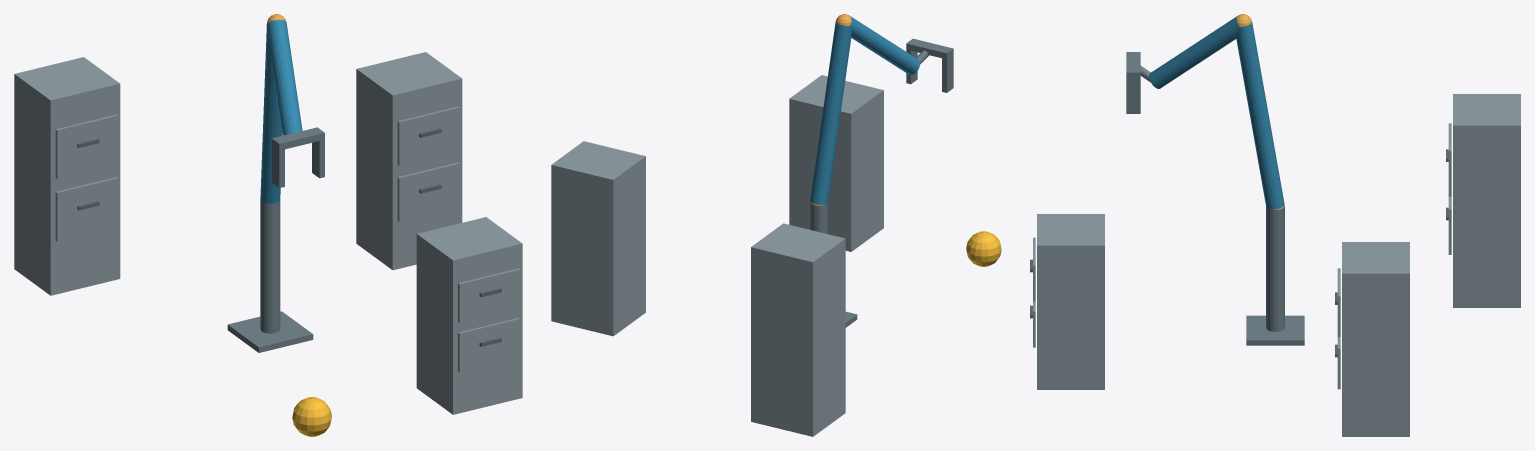
3 renders of one model, left to right at view 1: azimuth 30°, elevation 25°; view 2: azimuth 150°, elevation 25°; view 3: azimuth 270°, elevation 25°, orthographic. The views are drawn at different scales.
Visible parts, largest first — view 1: cabinet_3 body, cabinet_2 body, cabinet_1 body, cabinet_3 drawer front, cabinet_3 drawer front.001, cabinet_2 drawer front, cabinet_2 drawer front.001, fixed post, cabinet_1 drawer front, cabinet_1 drawer front.001, moving link 2, moving link 1 (+4 smaller); view 2: cabinet_3 body, cabinet_2 body, cabinet_1 body, moving link 1, moving link 2, ball ball_1, gripper bridge, fixed post; view 3: cabinet_3 body, cabinet_2 body, cabinet_1 body, moving link 1, fixed post, moving link 2, pedestal, gripper finger 1.
Boxes of the visible parts, x1=… form: cabinet_3 body: x1=14, y1=57, x2=120, y2=295; cabinet_2 body: x1=356, y1=52, x2=462, y2=270; cabinet_1 body: x1=416, y1=217, x2=522, y2=414; cabinet_3 drawer front: x1=55, y1=177, x2=118, y2=241; cabinet_3 drawer front.001: x1=55, y1=114, x2=118, y2=179; cabinet_2 drawer front: x1=397, y1=162, x2=460, y2=221; cabinet_2 drawer front.001: x1=397, y1=106, x2=460, y2=165; fixed post: x1=260, y1=200, x2=280, y2=333; cabinet_1 drawer front: x1=458, y1=318, x2=520, y2=372; cabinet_1 drawer front.001: x1=458, y1=268, x2=520, y2=322; moving link 2: x1=267, y1=19, x2=302, y2=135; moving link 1: x1=260, y1=24, x2=282, y2=203; cabinet_3 body: x1=751, y1=223, x2=845, y2=436; cabinet_2 body: x1=551, y1=141, x2=645, y2=336; cabinet_1 body: x1=789, y1=75, x2=883, y2=251; moving link 1: x1=810, y1=22, x2=851, y2=204; moving link 2: x1=849, y1=15, x2=919, y2=74; ball ball_1: x1=966, y1=231, x2=1001, y2=266; gripper bridge: x1=906, y1=38, x2=953, y2=59; fixed post: x1=810, y1=203, x2=827, y2=233; cabinet_3 body: x1=1453, y1=94, x2=1520, y2=307; cabinet_2 body: x1=1342, y1=242, x2=1409, y2=436; cabinet_1 body: x1=1037, y1=214, x2=1104, y2=389; moving link 1: x1=1236, y1=22, x2=1284, y2=209; fixed post: x1=1266, y1=206, x2=1284, y2=331; moving link 2: x1=1149, y1=16, x2=1239, y2=88; pedestal: x1=1246, y1=315, x2=1304, y2=345; gripper finger 1: x1=1126, y1=79, x2=1140, y2=113.
Size of the model in its own units: 1.62 by 1.48 by 2.1.
